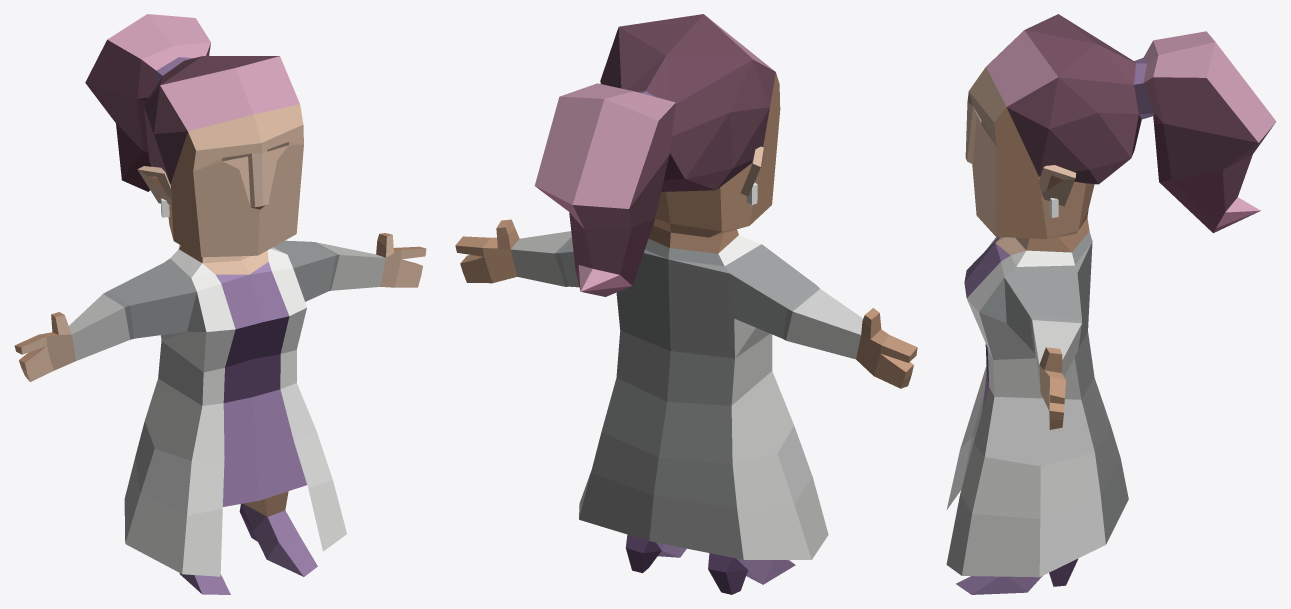
File: intp.glb
3 views of the same model, side by side, from view 1: azimuth 30°, elevation 25°; view 2: azimuth 150°, elevation 25°; view 3: azimuth 270°, elevation 25° (orthographic). The views are drawn at different scales.
Parts seen in each view (by area): view 1: intp; view 2: intp; view 3: intp.
Boxes of the visible parts, x1,y1,x2,y2 form: intp: (14,14,426,594); intp: (455,14,917,594); intp: (946,14,1276,594).
Bounding box in the file's own units: 9.01 × 10.52 × 5.88.
Materials: 2 (2 with a texture image).
